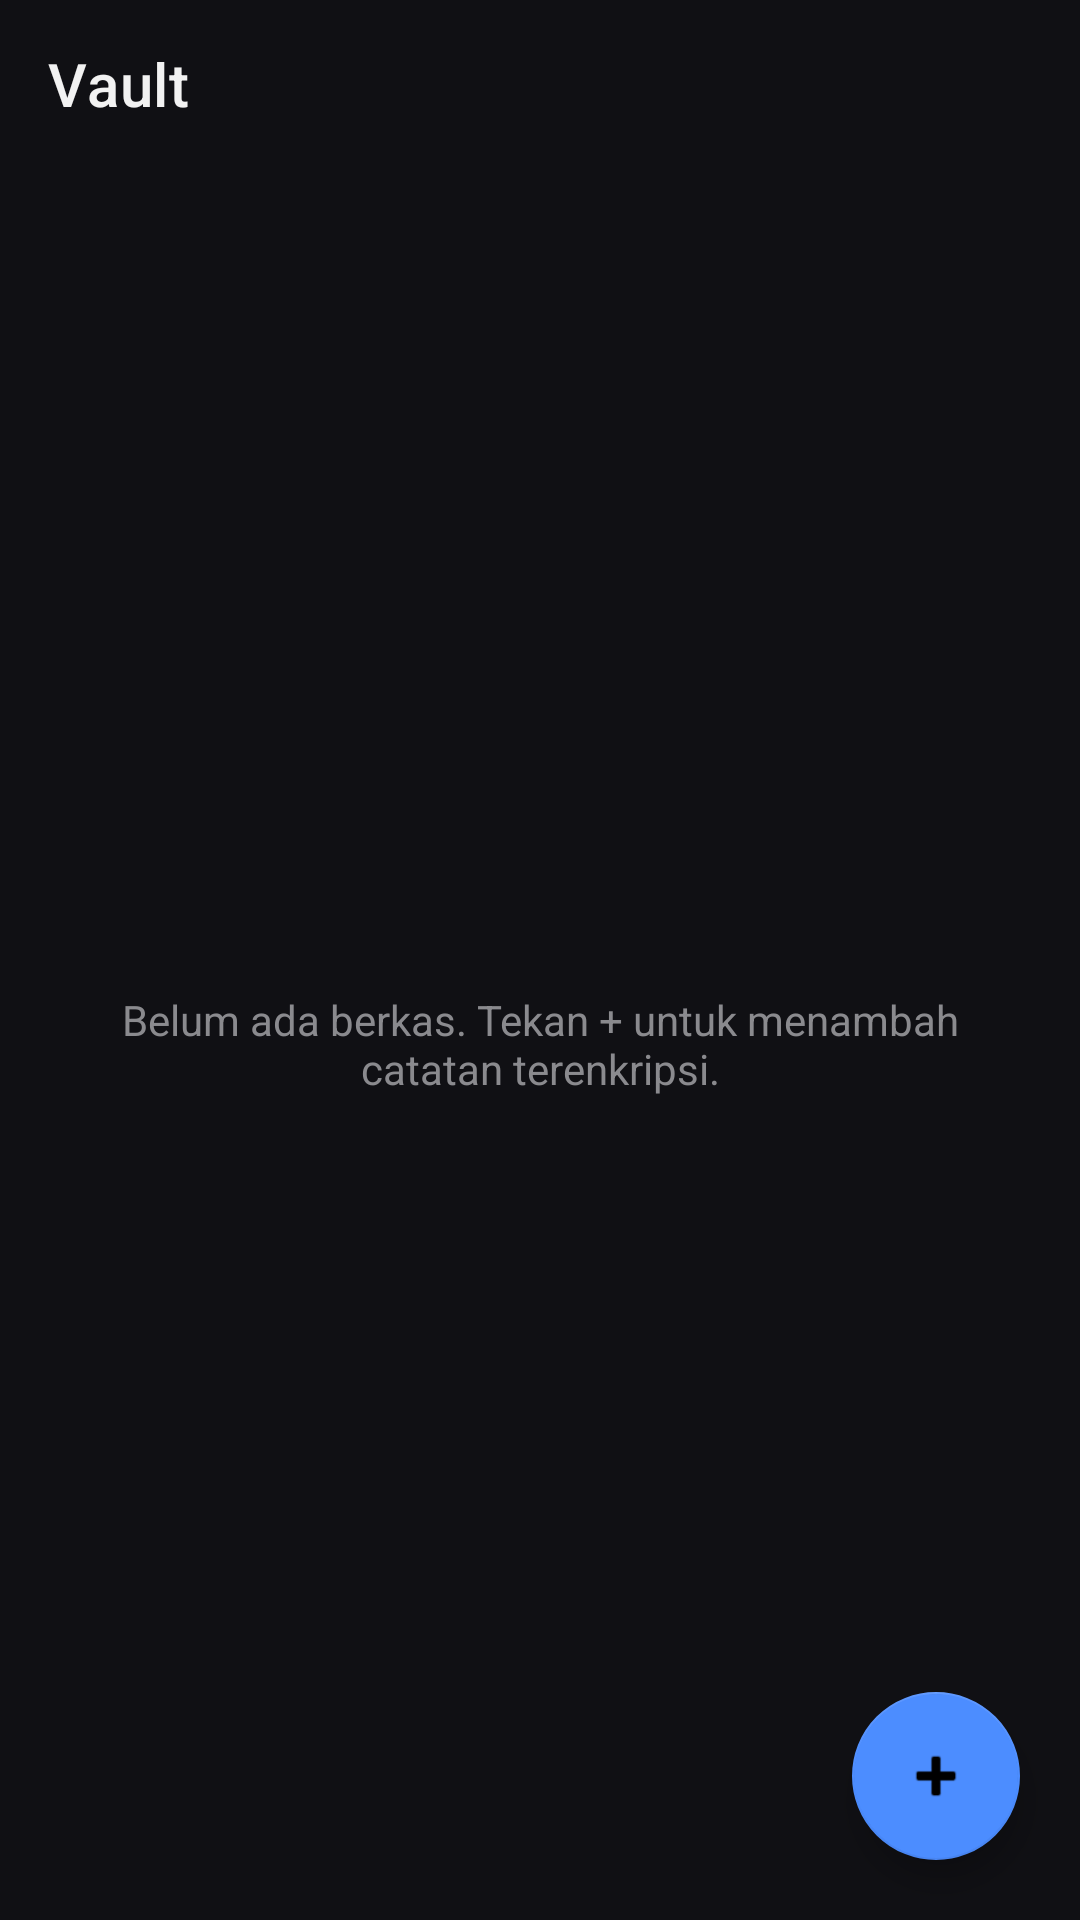

Named icons in this screenshot (1080px×1920px) and their centers, [x,y]:
Catatan baru: [936,1776]
